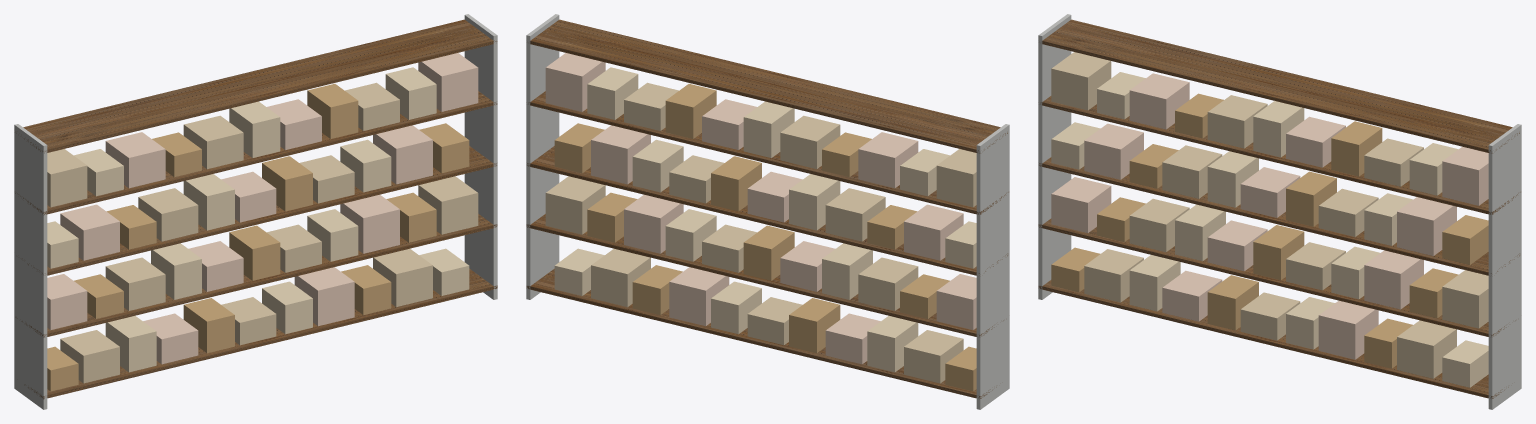
File: estante_deposito_360.glb
3 views of the same model, side by side, from view 1: azimuth 30°, elevation 25°; view 2: azimuth 150°, elevation 25°; view 3: azimuth 330°, elevation 25° (orthographic).
Parts seen in each view (by area): view 1: estante_deposito_360; view 2: estante_deposito_360; view 3: estante_deposito_360.
Boxes of the visible parts, <box> form: estante_deposito_360: <box>14,14,497,409</box>; estante_deposito_360: <box>526,14,1009,409</box>; estante_deposito_360: <box>1038,14,1521,409</box>.
Bounding box in the file's own units: 3.6 × 2 × 0.4.
6 materials, 1 textured.
